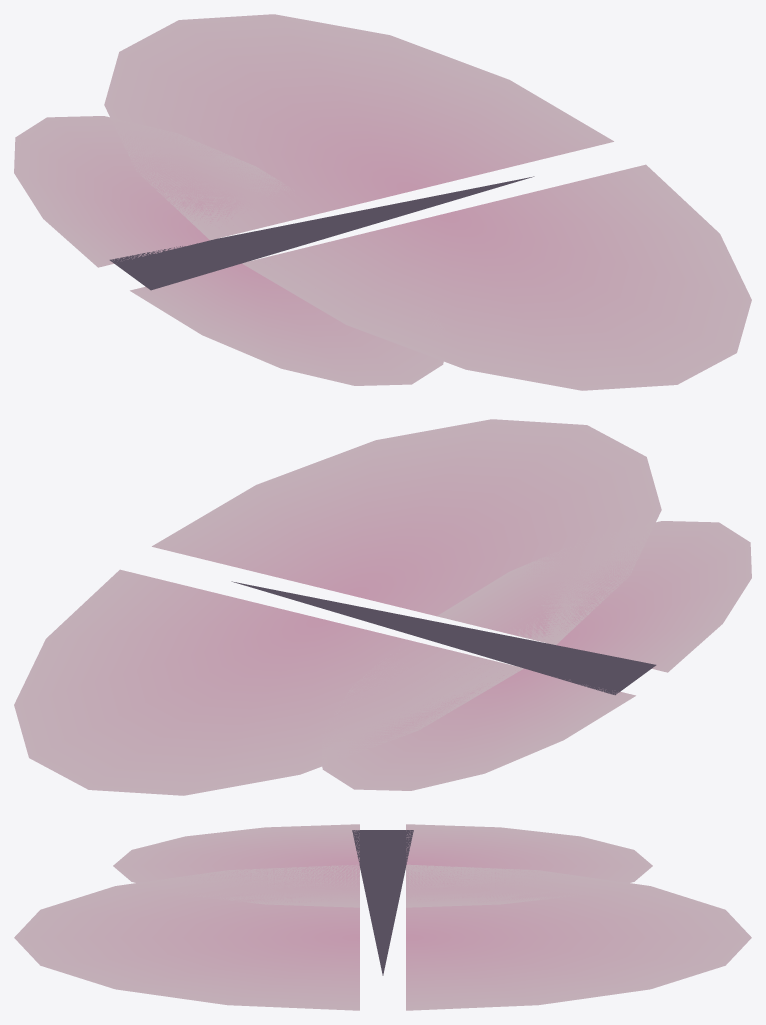
Rendered from SM_GR_Butterfly_Pink.fbx.
The picture shows the model from 3 angles, top to bottom: view 1: azimuth 30°, elevation 25°; view 2: azimuth 150°, elevation 25°; view 3: azimuth 270°, elevation 25°; orthographic projection. The views are drawn at different scales.
Parts seen in each view (by area): view 1: SM_GR_Butterfly_Pink; view 2: SM_GR_Butterfly_Pink; view 3: SM_GR_Butterfly_Pink.
Boxes of the visible parts, x1,y1,x2,y2 form: SM_GR_Butterfly_Pink: (14,14,751,390); SM_GR_Butterfly_Pink: (14,419,751,795); SM_GR_Butterfly_Pink: (14,824,751,1010).
Size of the model in its own units: 5.72 by 4.18e-07 by 9.56.
